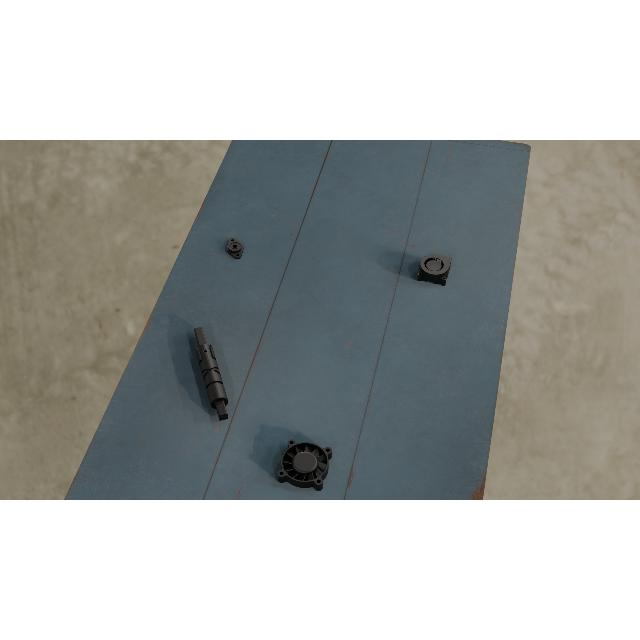Pieza1: (190, 323, 232, 425)
Pieza2: (224, 235, 246, 261)
Pieza3: (416, 252, 452, 288)
Pieza4: (276, 439, 334, 493)
